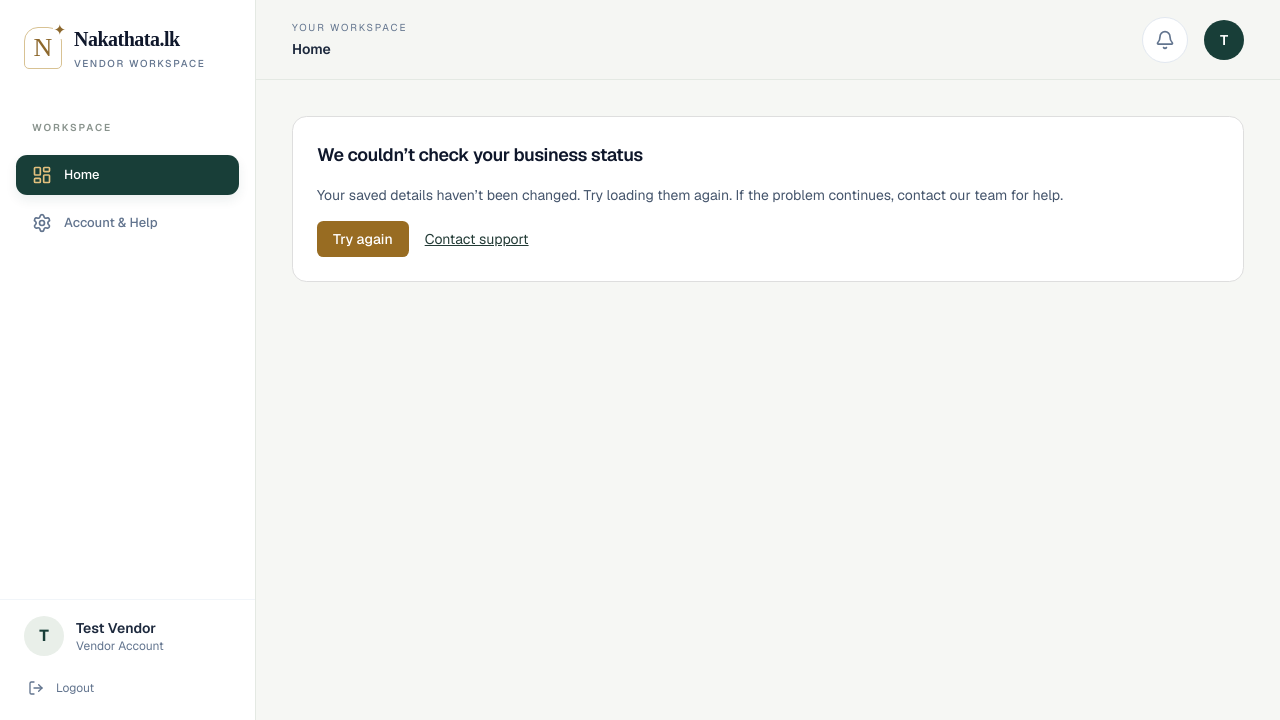
Scenario: Vendor dashboard loading recovery › keeps a failed approval request blocked and retries it independently
Expected: the heading "We couldn’t check your business status" is shown, x1=317 y1=143 x2=643 y2=166
Click the button "Try again" at (363, 239), box x1=317 y1=221 x2=409 y2=257
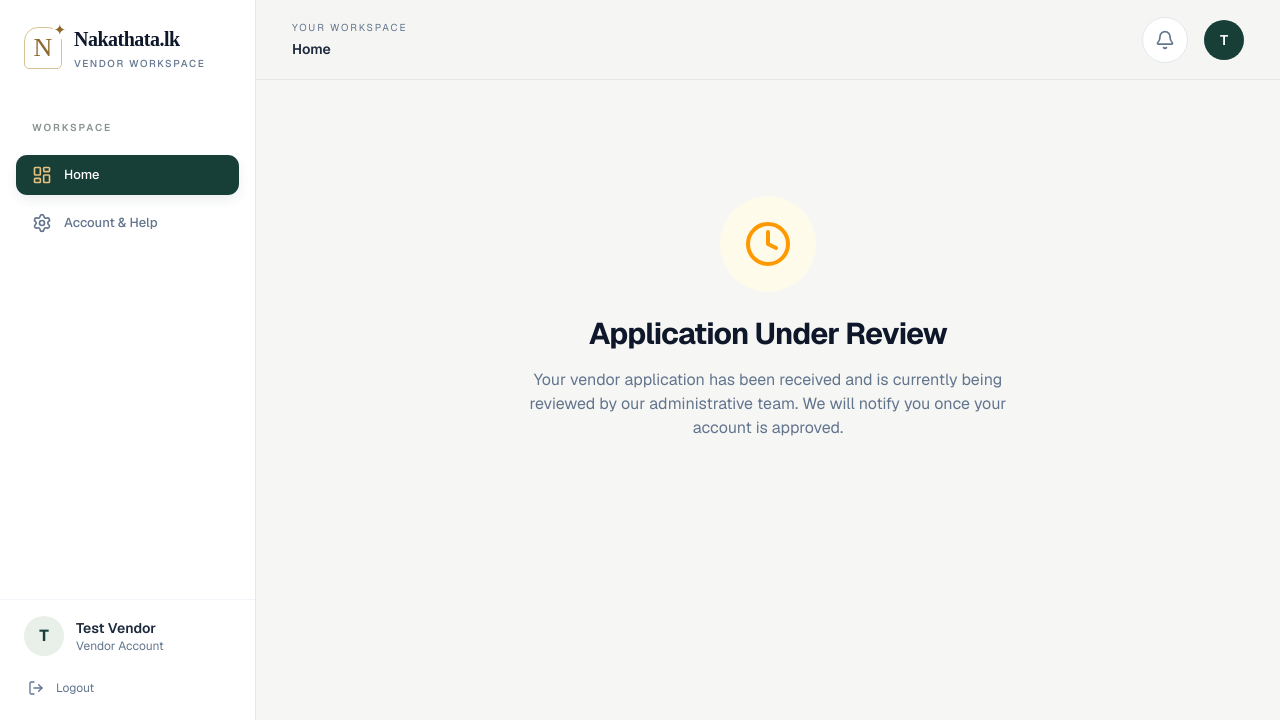
Now the heading "Application Under Review" is shown, box x1=589 y1=316 x2=947 y2=352
